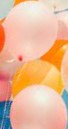Balloon: (2, 1, 56, 61), (8, 86, 68, 129)
